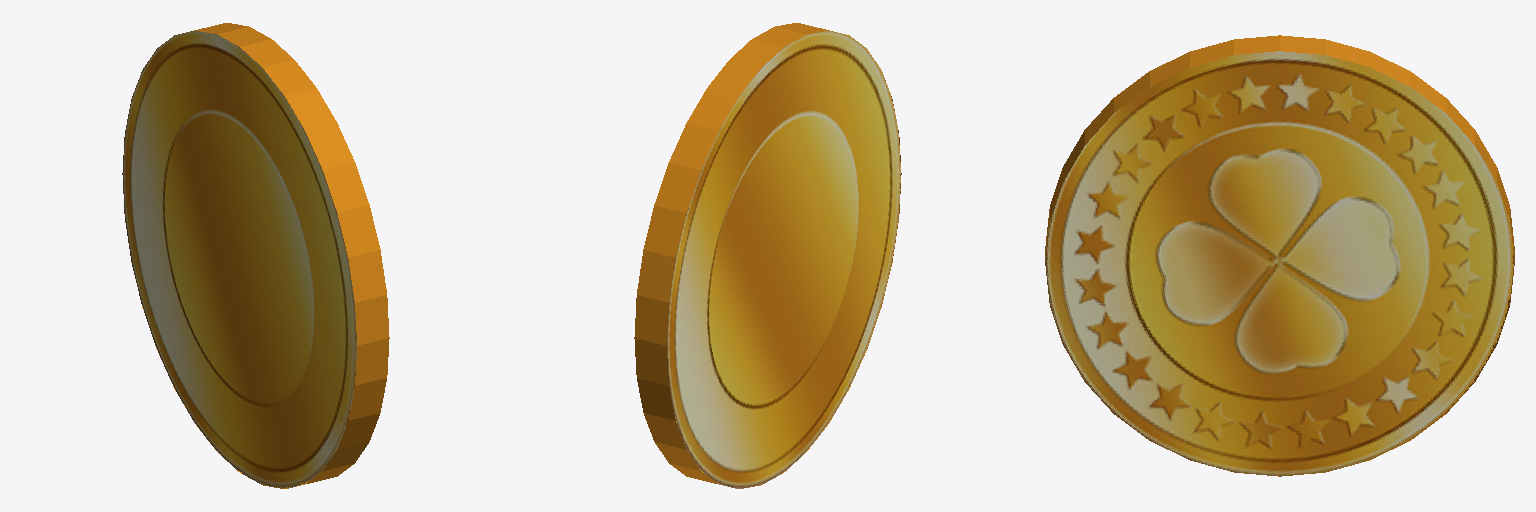
3 views of the same model, side by side, from view 1: azimuth 30°, elevation 25°; view 2: azimuth 150°, elevation 25°; view 3: azimuth 270°, elevation 25° (orthographic).
Visible parts, largest first — view 1: Cylinder; view 2: Cylinder; view 3: Cylinder.
Boxes of the visible parts, <box> form: Cylinder: <box>122,23,389,488</box>; Cylinder: <box>634,23,901,488</box>; Cylinder: <box>1045,35,1514,476</box>.
Bounding box in the file's own units: 0.1213 × 1.52 × 1.52.
Materials: 1 (1 with a texture image).